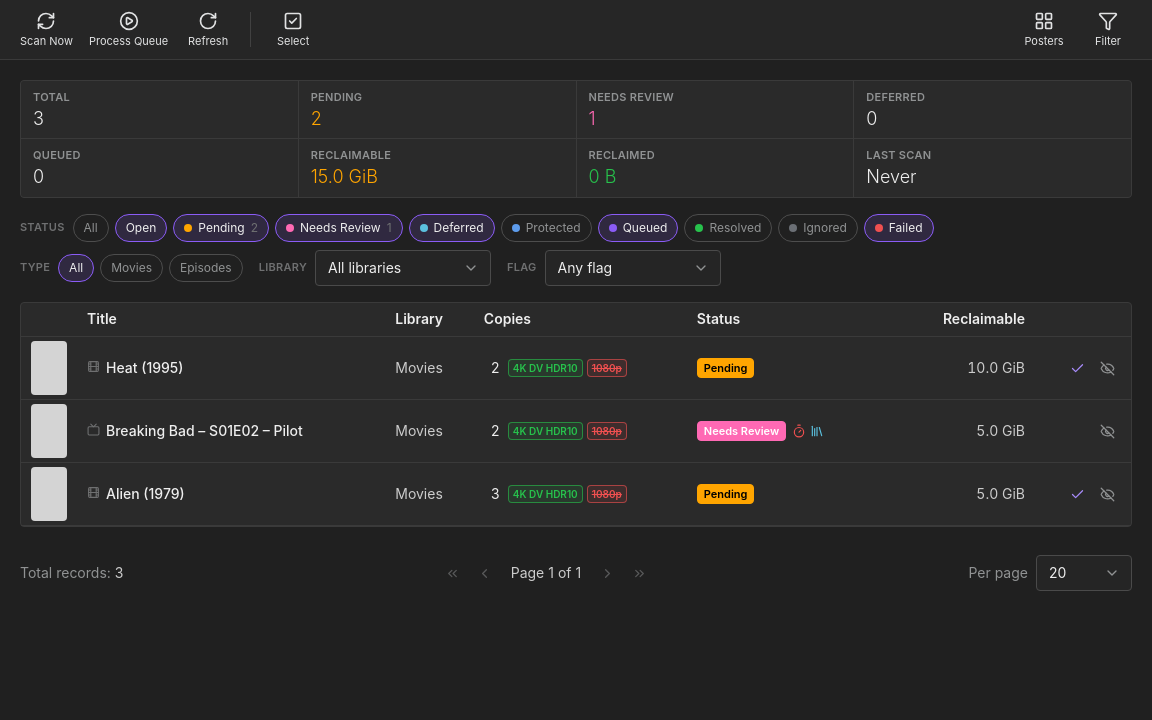
<DuplicatesPage> › bulk-approves the selection after confirming a summary, skipping review groups
Expected: the link "Heat (1995)" is shown, [106, 358, 184, 378]
Expected: the button "Approve (" is not shown
Click the button "Select": [293, 30] box [261, 0, 325, 59]
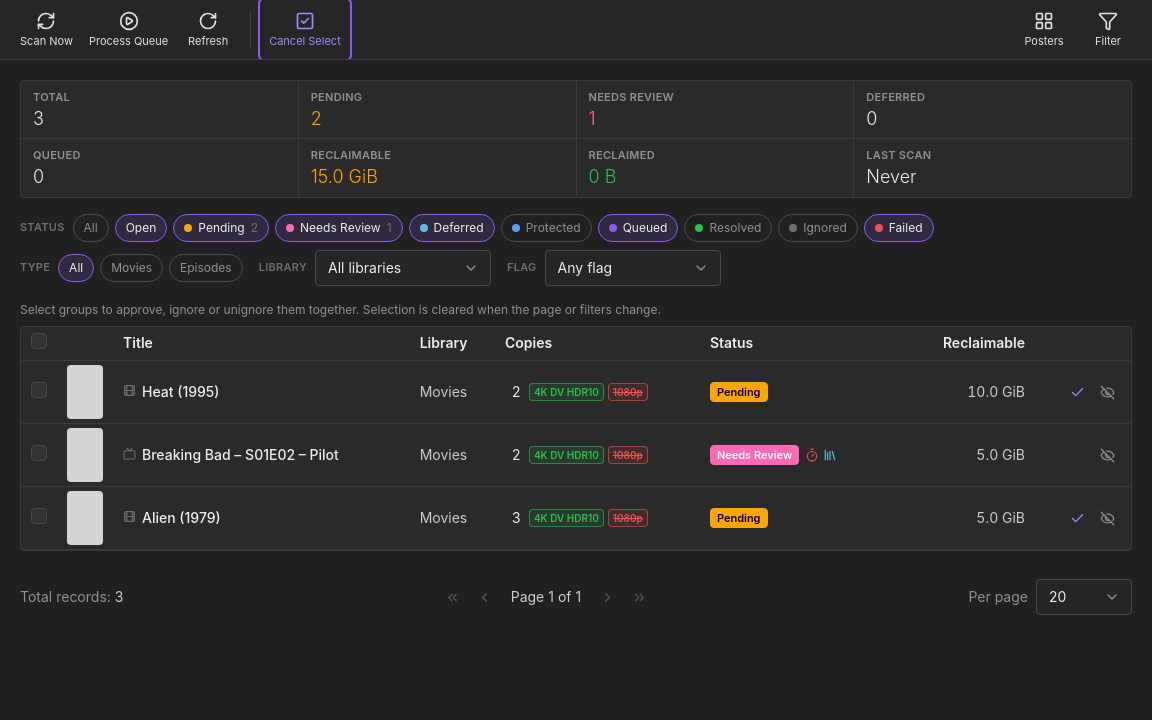
Click the checkbox named "Select row": [39, 390] box [31, 382, 47, 398]
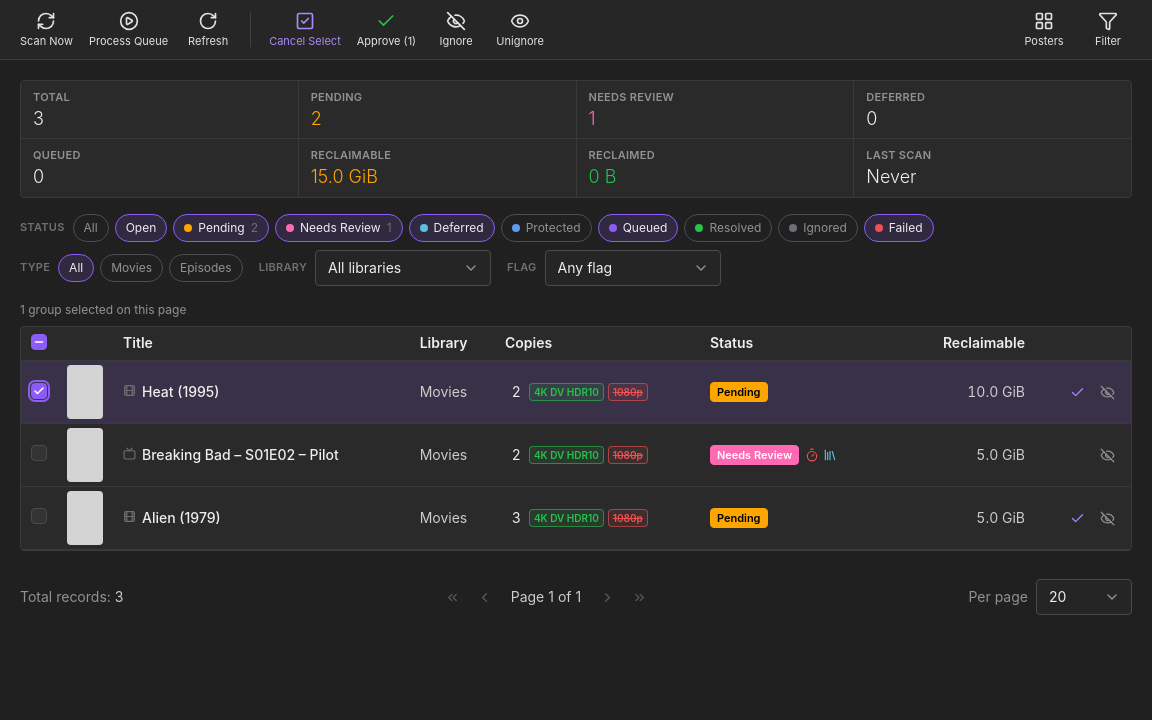
Click the checkbox named "Select row": [39, 453] box [31, 445, 47, 461]
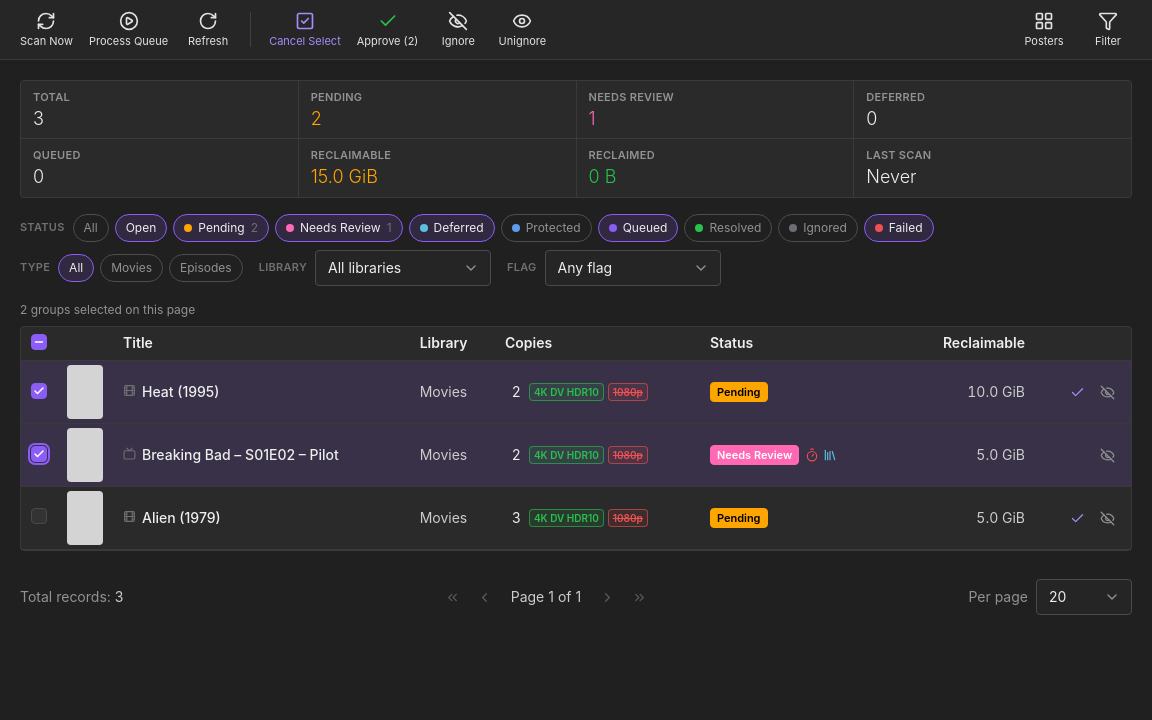
Click the checkbox named "Select row": [39, 516] box [31, 508, 47, 524]
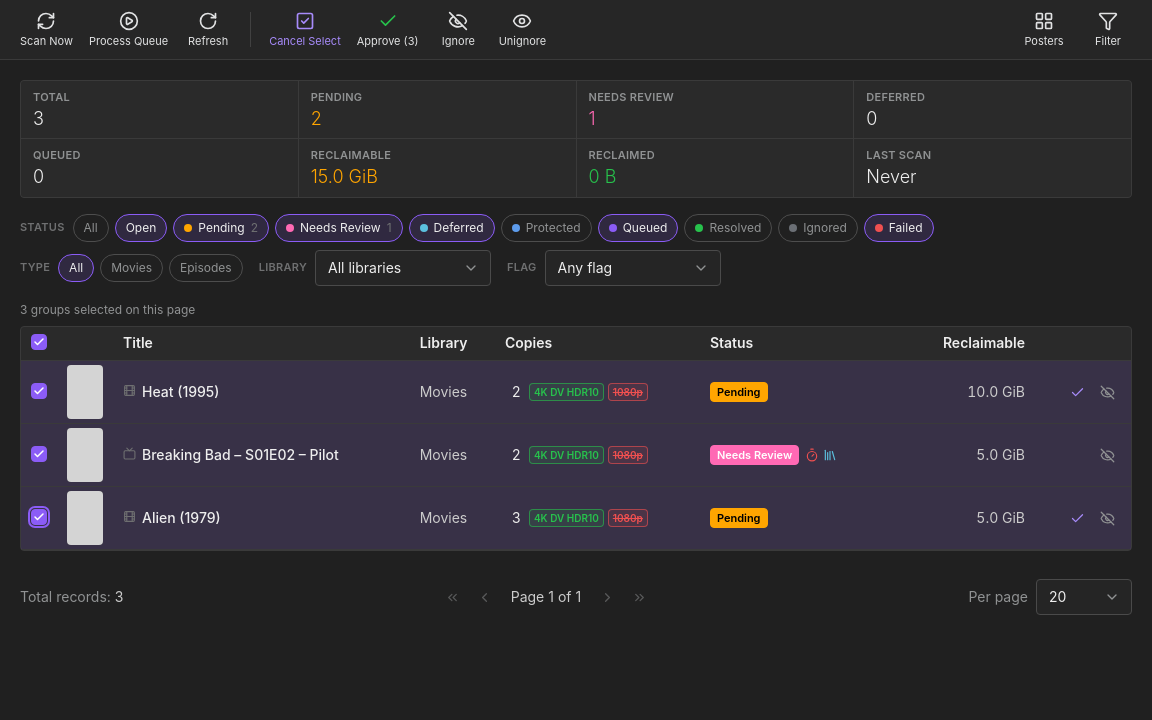
Click the button "Approve (3)": [388, 30] box [349, 0, 426, 59]
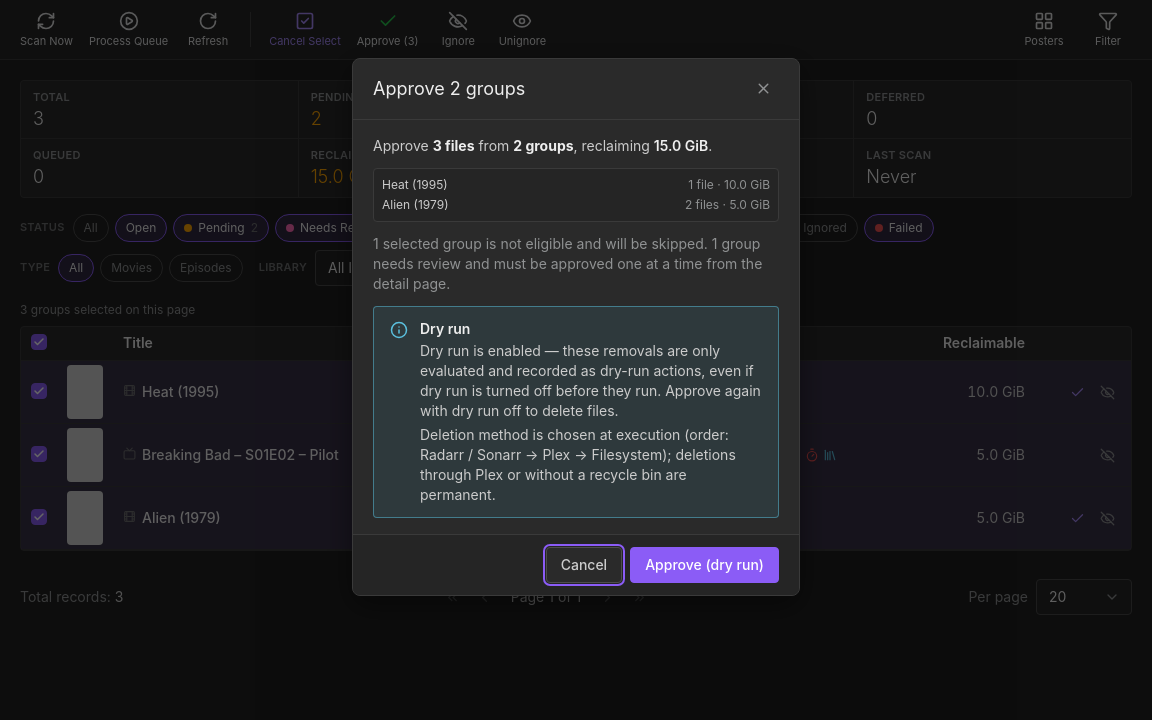
Result: the element with test id "bulk-summary" reads "Approve 3 files from 2 groups, reclaiming 15.0 GiB." at [373, 137, 712, 154]
Result: the text with test id "bulk-skipped" shows "1 selected group is not eligible and will be skipped. 1 group needs review and must be approved one at a time from the detail page." at [373, 234, 779, 294]
Result: the text "Dry run is enabled" is shown at [420, 342, 761, 419]
Click the button "Approve (dry run)": [705, 565] box [630, 547, 779, 583]
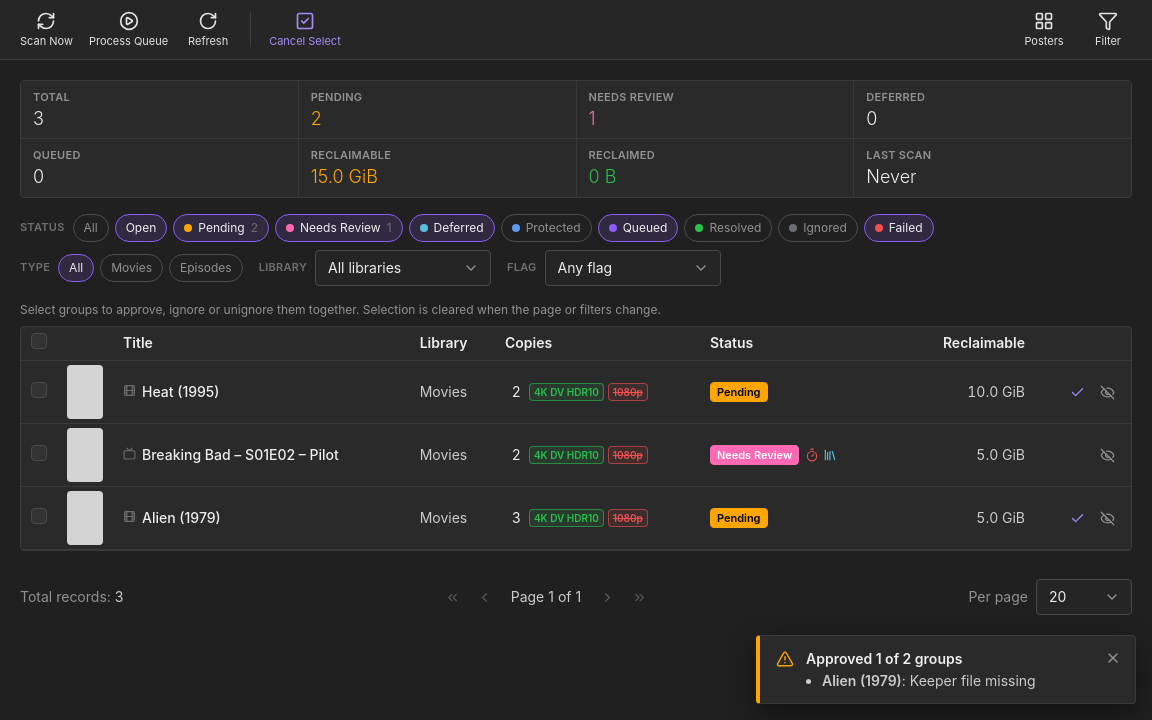
Result: the text "Alien (1979)" is shown at [822, 672, 902, 689]
Result: the list item "Alien (1979): Keeper file missing" is shown at [822, 672, 1036, 689]
Result: the dialog is gone
